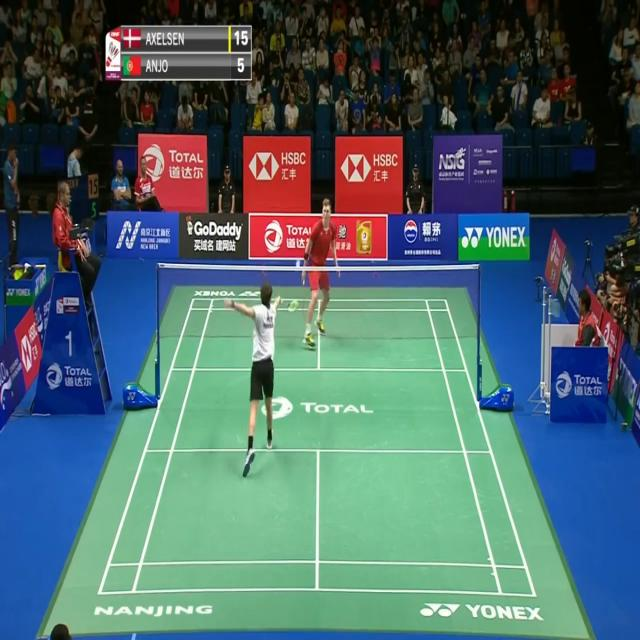Player1: (221, 278, 301, 494)
Player2: (298, 188, 342, 352)
